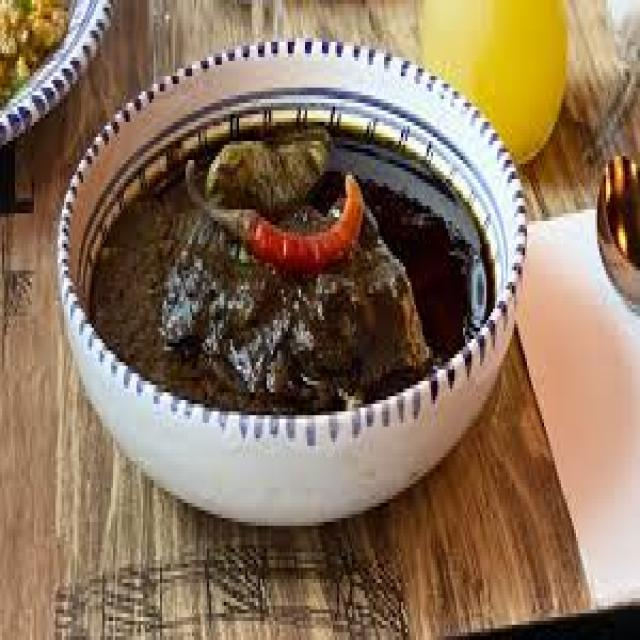Melloukhia: (77, 29, 506, 463)
